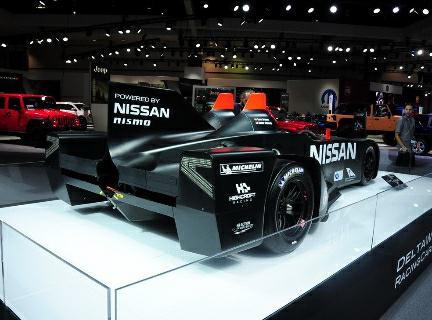日产-DeltaWing: (43, 82, 386, 254)
